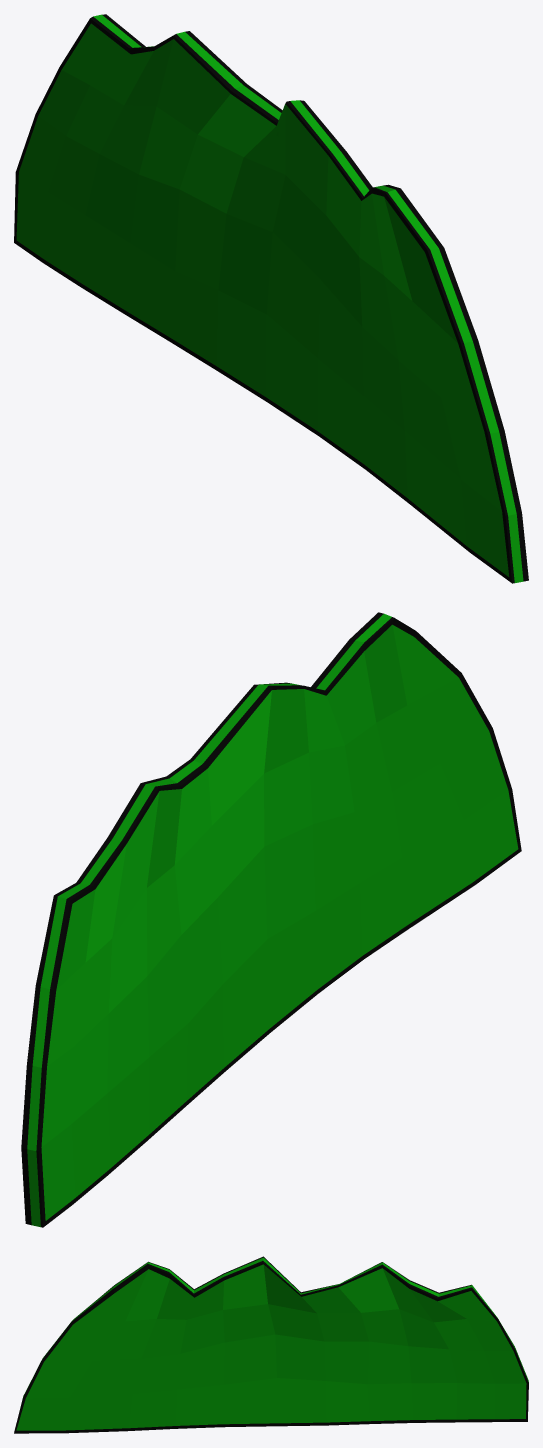
The model's file is CardboardBush05.fbx.
3 views of the same model, one above another, from view 1: azimuth 30°, elevation 25°; view 2: azimuth 150°, elevation 25°; view 3: azimuth 270°, elevation 25° (orthographic). The views are drawn at different scales.
Visible parts, largest first — view 1: Cube.054; view 2: Cube.054; view 3: Cube.054.
Part boxes in pixels (x1=…): Cube.054: x1=14, y1=14, x2=528, y2=583; Cube.054: x1=21, y1=612, x2=521, y2=1227; Cube.054: x1=14, y1=1256, x2=528, y2=1433.
Bounding box in the file's own units: 57.78 × 242 × 652.
